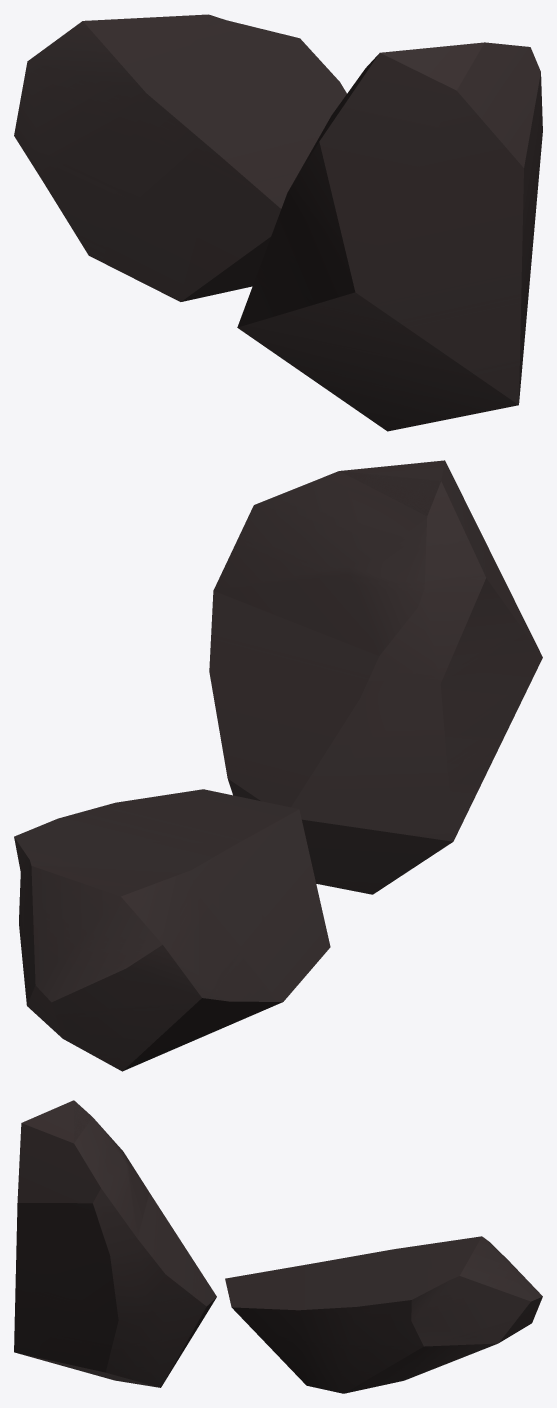
File: woodland_rock_4.glb
The picture shows the model from 3 angles, top to bottom: view 1: azimuth 30°, elevation 25°; view 2: azimuth 150°, elevation 25°; view 3: azimuth 270°, elevation 25°; orthographic projection. The views are drawn at different scales.
Visible parts, largest first — view 1: Rock 4; view 2: Rock 4; view 3: Rock 4.
Boxes of the visible parts, bbox=[...] form: Rock 4: bbox=[14, 14, 542, 431]; Rock 4: bbox=[14, 460, 542, 1071]; Rock 4: bbox=[14, 1100, 542, 1393].
Size of the model in its own units: 2.25 by 3.29 by 5.89.
1 material, 1 textured.
